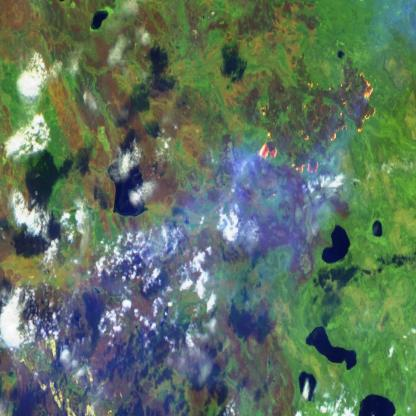fire: (256, 76, 380, 177)
